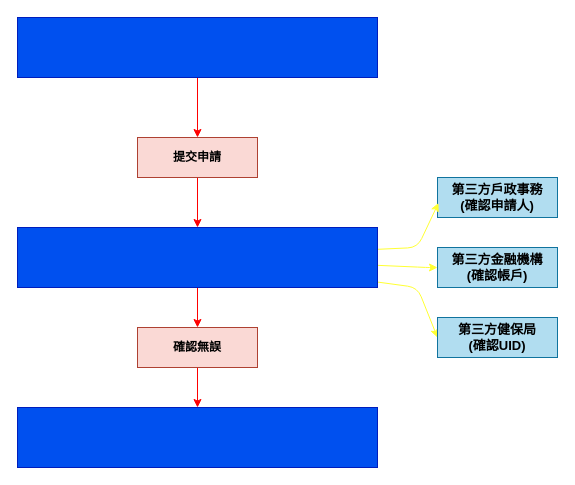
This 575x485 diagram has some shape labels left out. The shapes that lost their labels are listed below. From the top down, each one's box as (x1, y1, x2, y2) in pixels, then its label:
(16, 16, 378, 78): 申請者
(16, 226, 378, 288): 政府審核
(16, 406, 378, 468): 政府人員編寫JSON格式 (以便交給其他金融單位發放)
